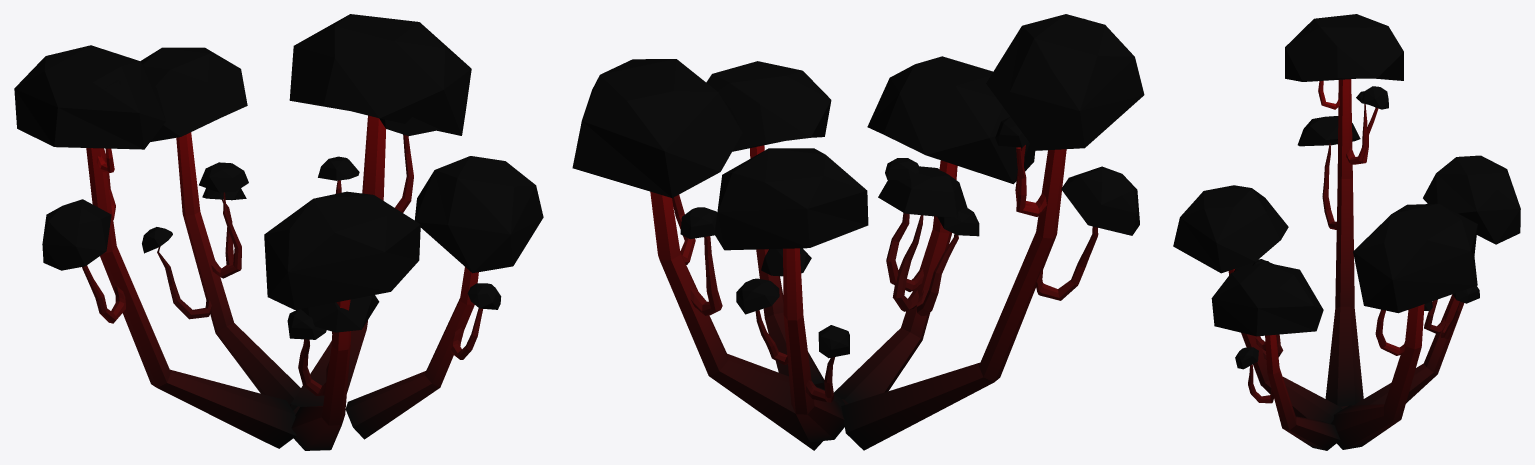
Rendered from FungiBolete05.fbx.
3 renders of one model, left to right at view 1: azimuth 30°, elevation 25°; view 2: azimuth 150°, elevation 25°; view 3: azimuth 270°, elevation 25°, orthographic. The views are drawn at different scales.
Parts seen in each view (by area): view 1: FungiBolete05; view 2: FungiBolete05; view 3: FungiBolete05.
Boxes of the visible parts, x1,y1,x2,y2 form: FungiBolete05: (14, 14, 543, 450); FungiBolete05: (572, 14, 1144, 450); FungiBolete05: (1173, 14, 1520, 450).
Bounding box in the file's own units: 49.81 × 44.63 × 41.27.
